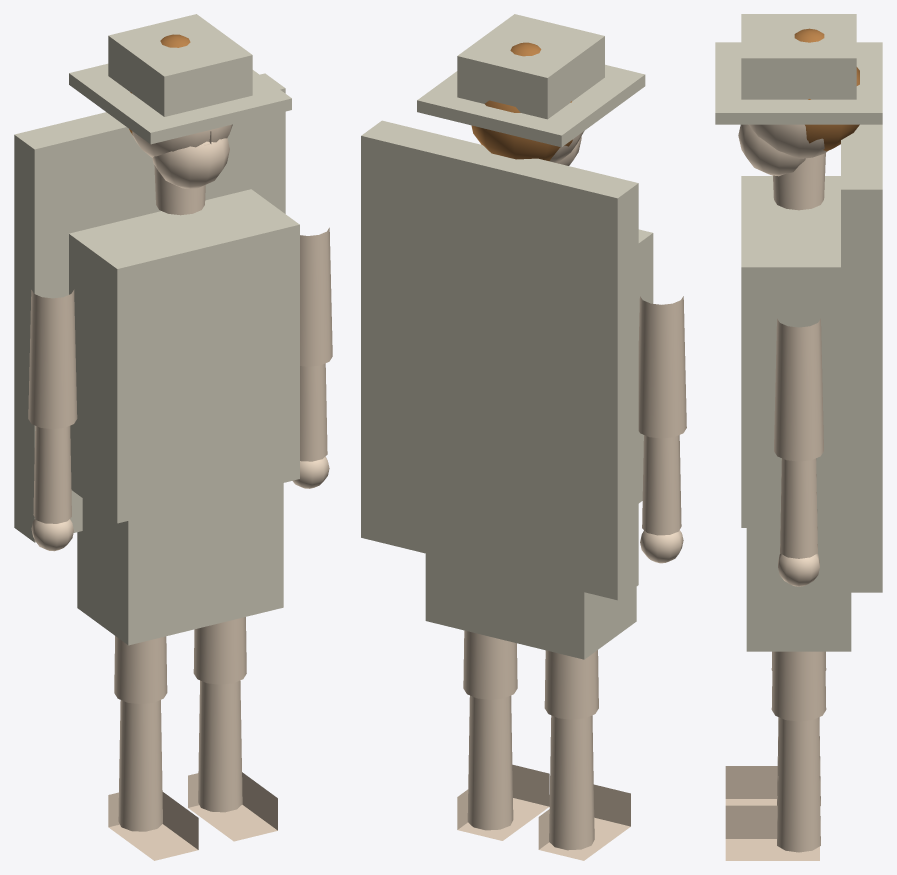
The model's file is body.glb.
The picture shows the model from 3 angles, left to right: view 1: azimuth 30°, elevation 25°; view 2: azimuth 150°, elevation 25°; view 3: azimuth 270°, elevation 25°; orthographic projection. The views are drawn at different scales.
Visible parts, largest first — view 1: Cloth, Skin; view 2: Cloth, Skin, Hair; view 3: Cloth, Skin, Hair.
Boxes of the visible parts, box(x1,y1,x2,y2) form: Cloth: box(14, 14, 299, 645); Skin: box(28, 124, 332, 860); Cloth: box(361, 14, 653, 659); Skin: box(457, 131, 686, 860); Hair: box(471, 42, 572, 161); Cloth: box(715, 14, 882, 651); Skin: box(725, 124, 827, 860); Hair: box(794, 28, 859, 151).
Size of the model in its own units: 0.6741 by 1.68 by 0.32.
